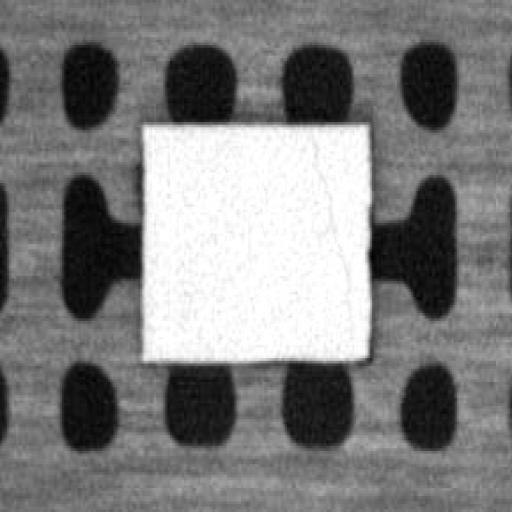DIE_CRACK: (308, 132, 348, 292)
